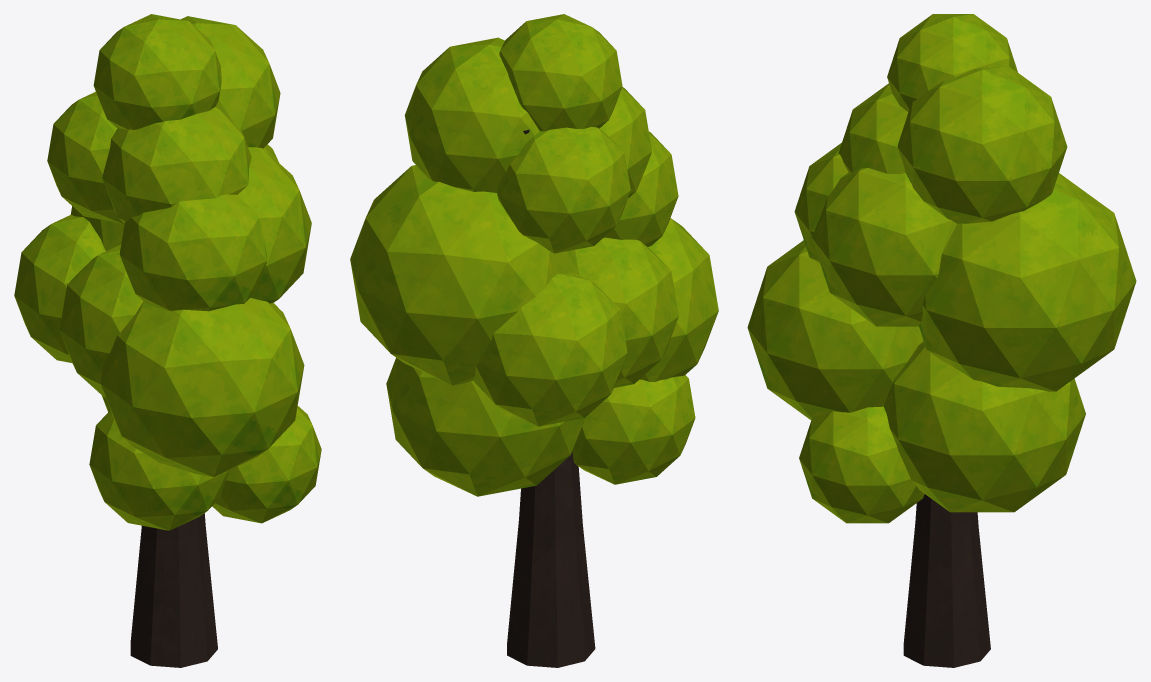
The model's file is tree-bright-green-flowers_7.fbx.
3 views of the same model, side by side, from view 1: azimuth 30°, elevation 25°; view 2: azimuth 150°, elevation 25°; view 3: azimuth 270°, elevation 25° (orthographic).
Visible parts, largest first — view 1: Icosphere.127; view 2: Icosphere.127; view 3: Icosphere.127.
Part boxes in pixels (left/top/right/bottom): Icosphere.127: left=14, top=14, right=321, bottom=667; Icosphere.127: left=350, top=14, right=718, bottom=667; Icosphere.127: left=747, top=14, right=1136, bottom=667.
Bounding box in the file's own units: 149 × 357 × 201.
